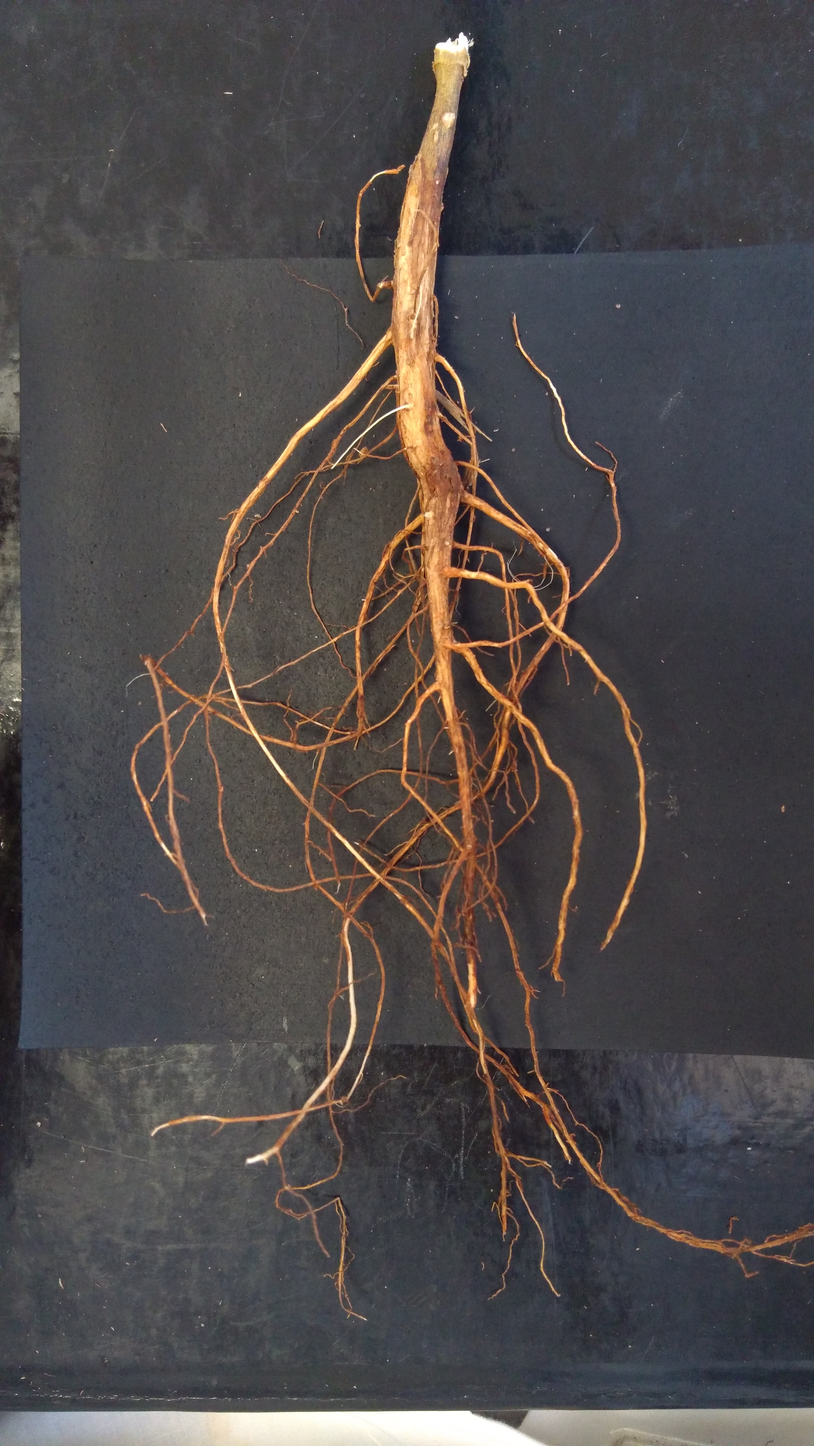nodule: (358, 446, 369, 457), (424, 510, 434, 519), (458, 435, 465, 442), (465, 844, 472, 851), (440, 202, 444, 212), (246, 563, 251, 570), (545, 527, 550, 532), (545, 392, 548, 396), (321, 496, 323, 499)
